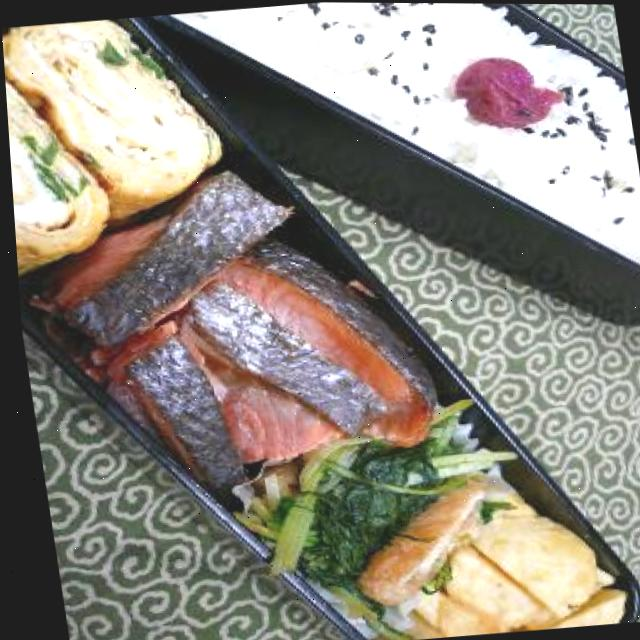熟制海鲜: (37, 157, 468, 469)
